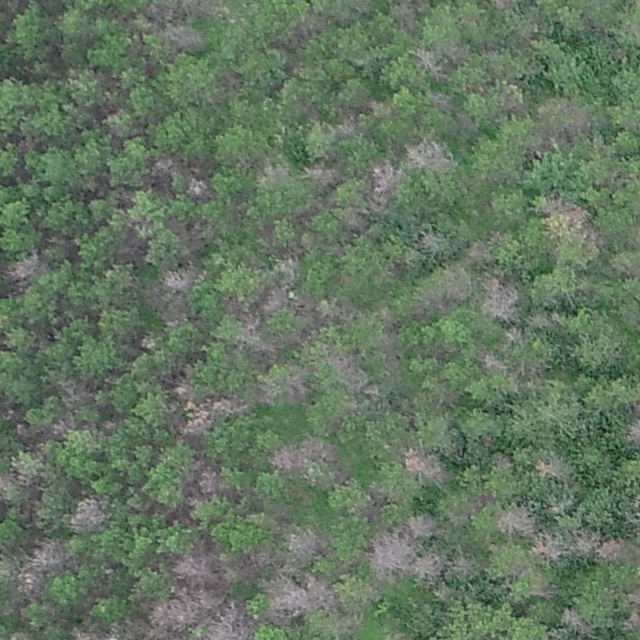unhealthy: (537, 192, 599, 244), (534, 96, 593, 146), (17, 539, 66, 596), (264, 573, 310, 622), (150, 590, 200, 634), (366, 529, 413, 575), (202, 600, 253, 639), (172, 548, 223, 587), (481, 276, 522, 324), (403, 137, 455, 173), (400, 446, 448, 485), (142, 285, 189, 321), (366, 159, 402, 205), (329, 350, 370, 390), (240, 314, 277, 357), (68, 495, 111, 532), (494, 505, 540, 539), (2, 249, 43, 287), (285, 524, 326, 559), (305, 575, 339, 613), (412, 549, 447, 583), (178, 405, 214, 438), (268, 443, 307, 473), (189, 460, 222, 495), (411, 45, 445, 78), (559, 604, 595, 635), (303, 159, 341, 188), (158, 264, 198, 291), (401, 510, 439, 538), (302, 433, 338, 462), (531, 533, 567, 562), (411, 288, 451, 313), (164, 25, 204, 50), (283, 369, 312, 402), (534, 455, 570, 480), (417, 228, 450, 255), (569, 527, 598, 557), (176, 0, 223, 18), (392, 0, 427, 24), (596, 536, 627, 563), (209, 395, 246, 417), (262, 283, 290, 312), (477, 350, 507, 377), (243, 546, 272, 573), (529, 309, 565, 330), (466, 237, 492, 266), (116, 616, 148, 639), (68, 623, 108, 640), (451, 553, 477, 578), (426, 88, 454, 111), (149, 153, 178, 175), (187, 177, 212, 202), (627, 406, 640, 454), (340, 208, 367, 231), (140, 4, 172, 23), (375, 303, 399, 328), (336, 109, 359, 134), (216, 71, 243, 92), (171, 379, 193, 401), (51, 419, 71, 437), (624, 607, 637, 631), (503, 326, 520, 344), (1, 471, 14, 492), (139, 334, 160, 347), (487, 0, 512, 9)
